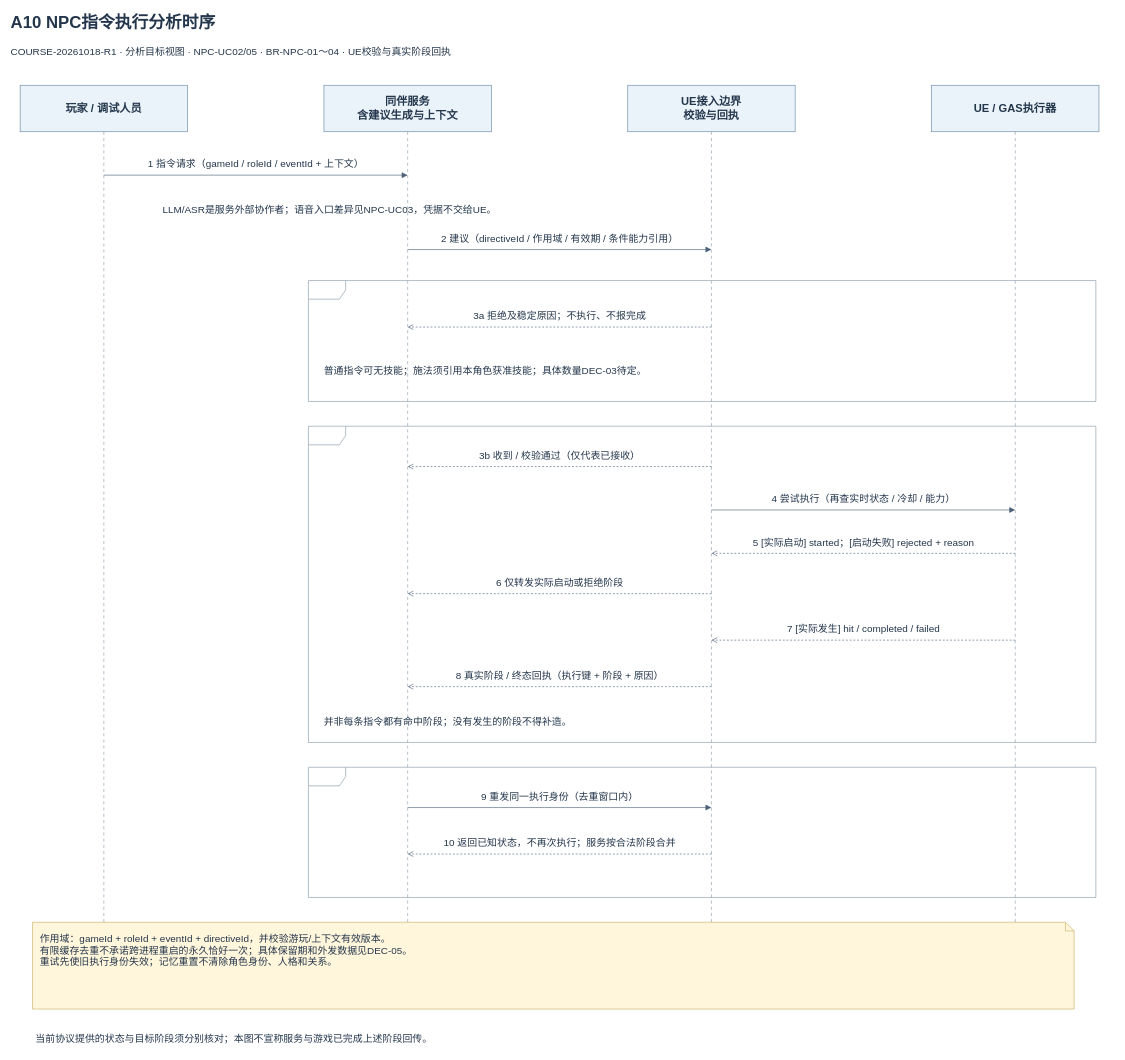
This 1125x1060 diagram has some shape labels left out. Here are the shapes that lost their labels. From the top down, the box of each, then its label:
(308, 280, 1096, 401): alt [旧局 / 过期 / 越权 / 语义不合法]
(308, 426, 1096, 742): else [当前有效且首次合法建议]
(308, 767, 1096, 897): opt [请求重发 / 回执重复或乱序]
